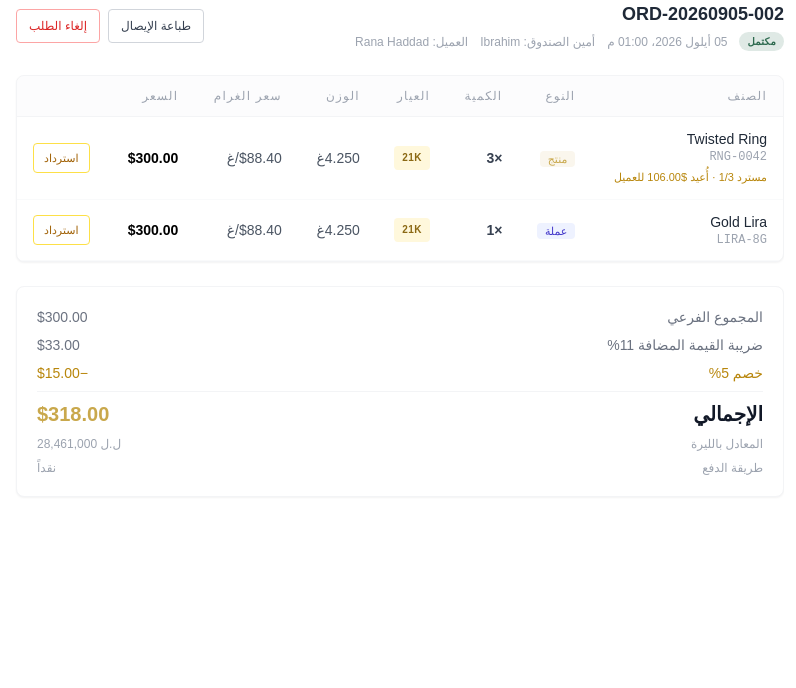
Test: order detail in Arabic (NEX-64) › translates the void panel and names its reason field
Click the button "إلغاء الطلب": [58, 26] box [16, 8, 100, 42]
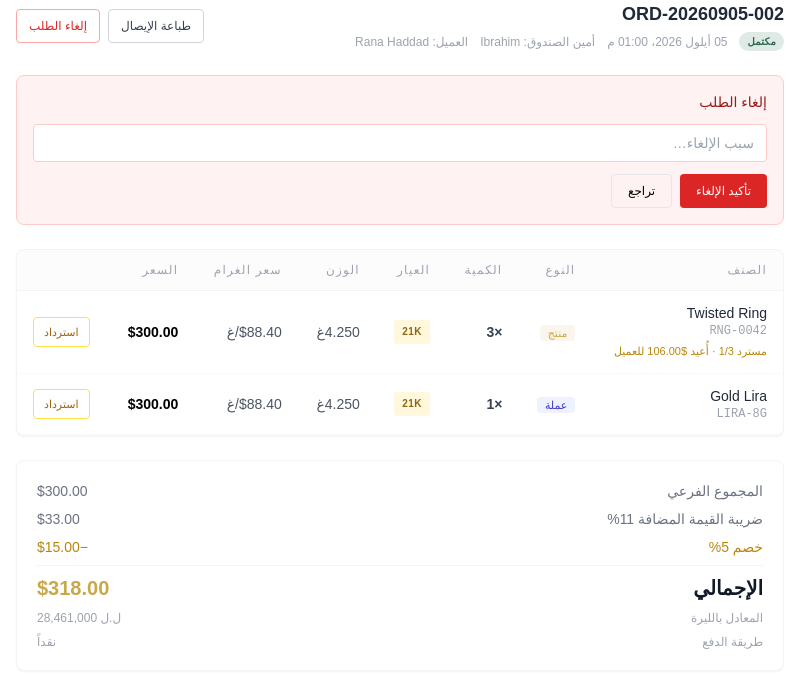
Now the button "تأكيد الإلغاء" is shown, box [680, 174, 767, 208]
Now the button "تراجع" is shown, box [611, 174, 672, 208]
